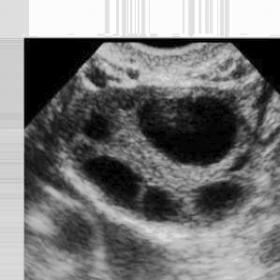PCOS: (138, 94, 242, 162), (86, 154, 142, 203), (144, 181, 183, 226), (194, 182, 243, 215), (87, 114, 115, 151), (90, 62, 112, 88)
